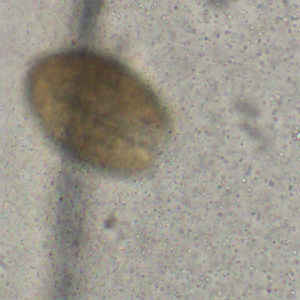Fasciola_hepatica_egg: (24, 49, 176, 177)
